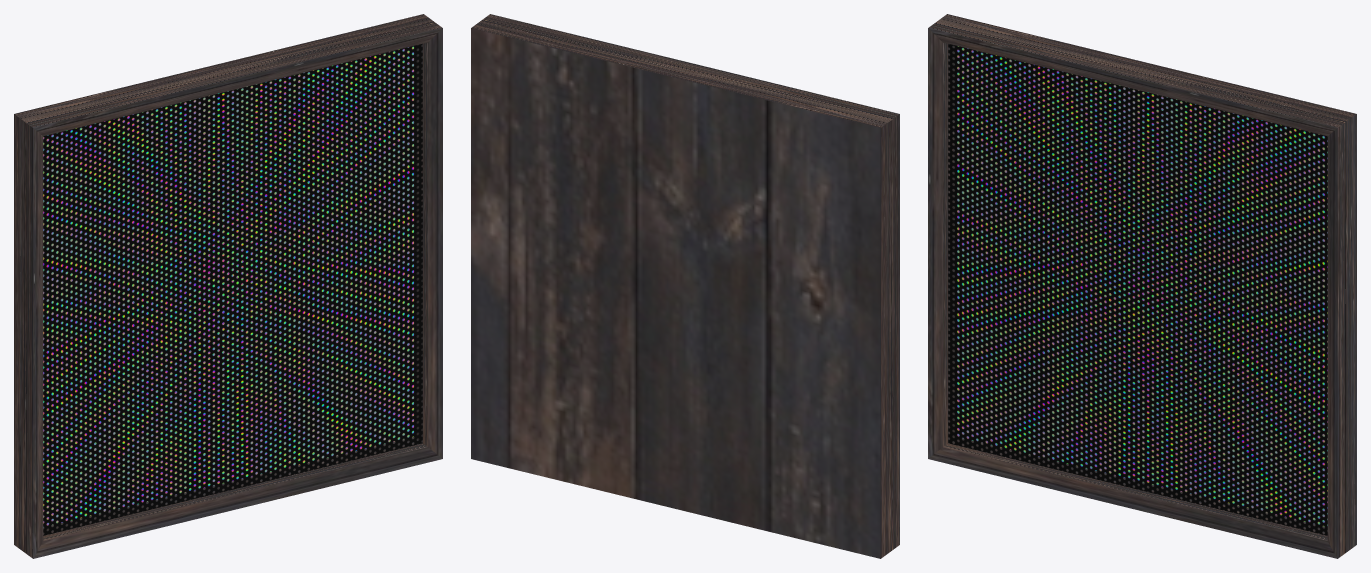
File: dimensiones_b.glb
3 renders of one model, left to right at view 1: azimuth 30°, elevation 25°; view 2: azimuth 150°, elevation 25°; view 3: azimuth 330°, elevation 25°, orthographic.
Parts seen in each view (by area): view 1: B r_4, B F_5, Object_7; view 2: Object_7; view 3: B r_4, B F_5, Object_7.
Boxes of the visible parts, box(x1,y1,x2,y2) form: B r_4: box(43, 44, 422, 535); B F_5: box(43, 46, 413, 527); Object_7: box(14, 14, 442, 558); Object_7: box(471, 14, 899, 558); B r_4: box(948, 44, 1327, 535); B F_5: box(957, 46, 1327, 526); Object_7: box(928, 14, 1356, 558).
Size of the model in its own units: 2.41 by 2.42 by 0.196.
Materials: 3 (3 with a texture image).
